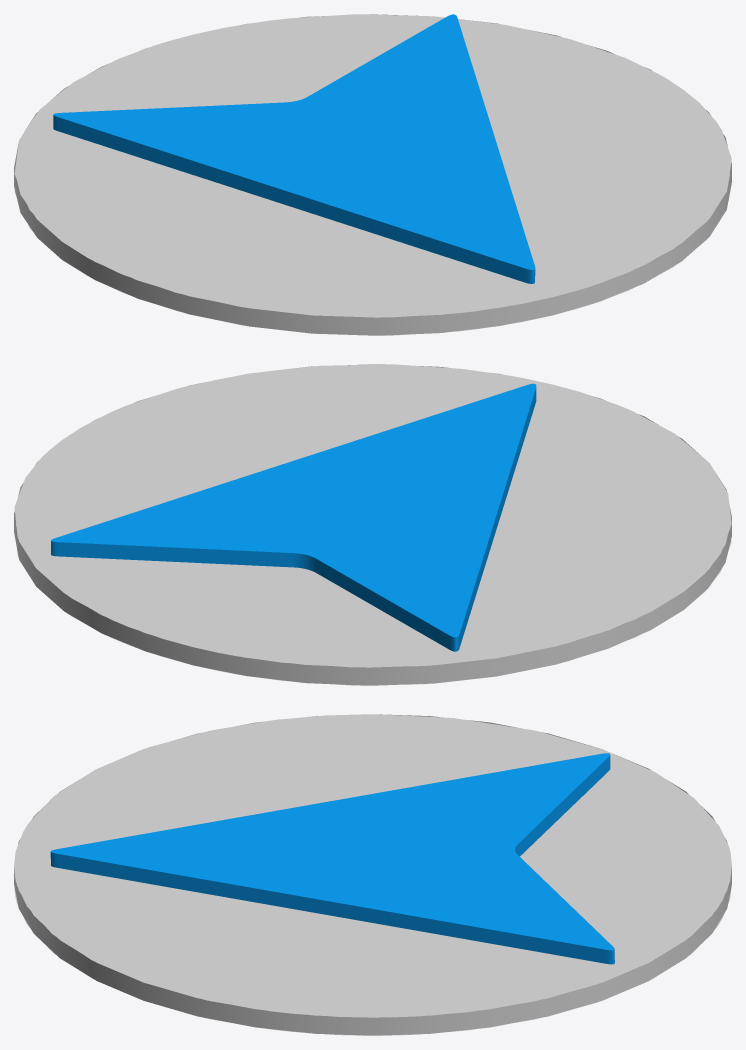
Rendered from cursor.glb.
3 renders of one model, top to bottom at view 1: azimuth 30°, elevation 25°; view 2: azimuth 150°, elevation 25°; view 3: azimuth 270°, elevation 25°, orthographic.
Visible parts, largest first — view 1: Object_3, Object_2; view 2: Object_3, Object_2; view 3: Object_3, Object_2.
Boxes of the visible parts, x1,y1,x2,y2 form: Object_3: (14,14,731,335); Object_2: (53,14,535,283); Object_3: (14,364,731,685); Object_2: (51,383,536,651); Object_3: (14,714,731,1035); Object_2: (50,753,614,964).
Size of the model in its own units: 2.01 by 0.1002 by 2.01.
